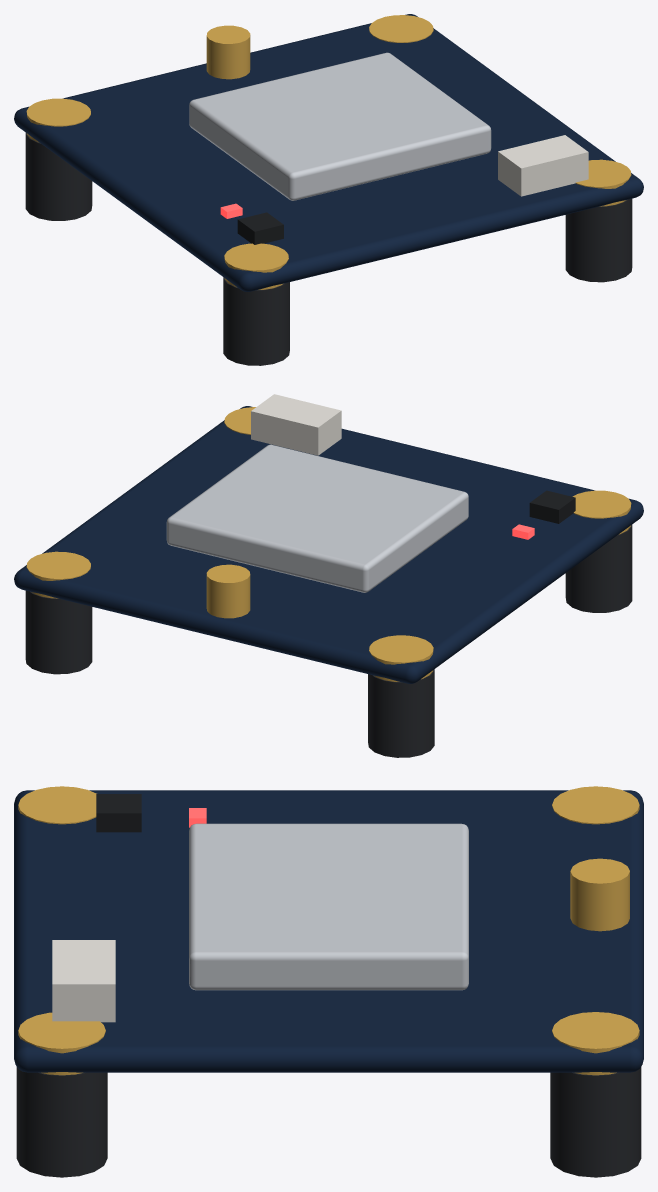
Rendered from vtx.glb.
The picture shows the model from 3 angles, top to bottom: view 1: azimuth 30°, elevation 25°; view 2: azimuth 150°, elevation 25°; view 3: azimuth 270°, elevation 25°; orthographic projection. The views are drawn at different scales.
Parts seen in each view (by area): view 1: PCB, RF shield can, Nylon spacer (×3), Mount pad (×4), Power connector, MMCX socket, Channel button; view 2: PCB, RF shield can, Nylon spacer (×3), Mount pad (×4), Power connector, MMCX socket, Channel button; view 3: PCB, RF shield can, Nylon spacer (×2), Mount pad (×4), Power connector, MMCX socket, Channel button.
Part boxes in pixels (box(x1,y1,x2,y2)): PCB: box(14, 14, 643, 291); RF shield can: box(189, 52, 491, 200); Nylon spacer (×3): box(25, 132, 632, 365); Mount pad (×4): box(26, 15, 631, 289); Power connector: box(498, 135, 588, 196); MMCX socket: box(206, 25, 250, 79); Channel button: box(237, 212, 283, 244); PCB: box(14, 406, 643, 683); RF shield can: box(166, 444, 468, 592); Nylon spacer (×3): box(25, 524, 632, 757); Mount pad (×4): box(26, 407, 631, 681); Power connector: box(251, 394, 341, 455); MMCX socket: box(206, 564, 250, 618); Channel button: box(529, 490, 575, 523); PCB: box(14, 790, 643, 1072); RF shield can: box(189, 823, 468, 990); Nylon spacer (×2): box(16, 1067, 641, 1177); Mount pad (×4): box(18, 786, 639, 1075); Power connector: box(52, 940, 115, 1022); MMCX socket: box(570, 858, 629, 931); Channel button: box(96, 794, 141, 832).
Bounding box in the file's own units: 0.036 × 0.011 × 0.036.
